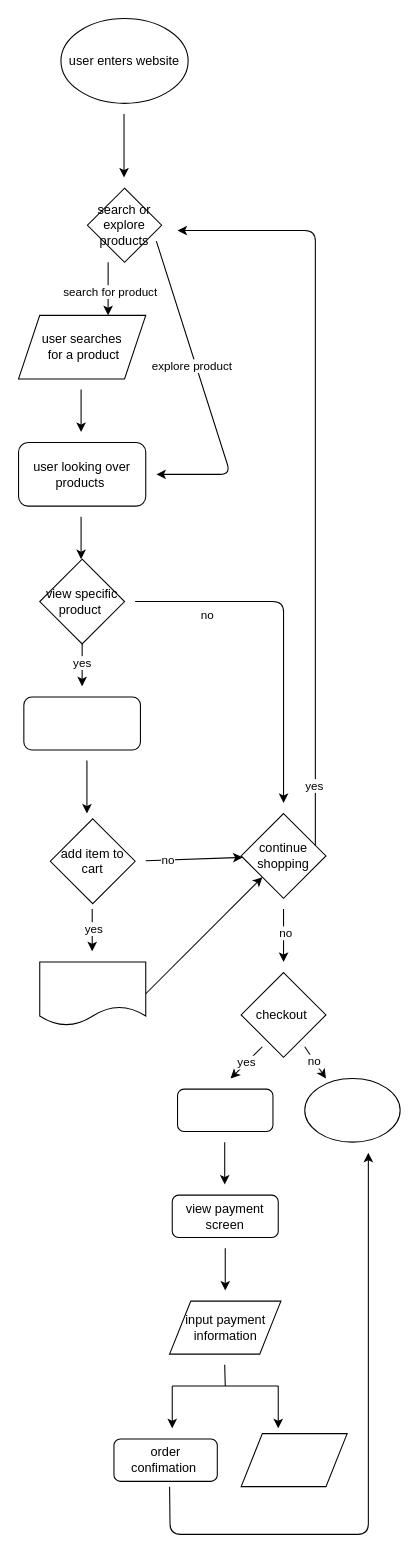
This 419x1561 diagram has some shape labels left out. Here are the shapes that lost their labels. From the top down, the centre of each, then its label:
pixel 81 723: specific products webpage open
pixel 92 993: added to cart confirmation
pixel 224 1110: view cart screen
pixel 352 1109: leave website
pixel 293 1460: send out email confirmation
